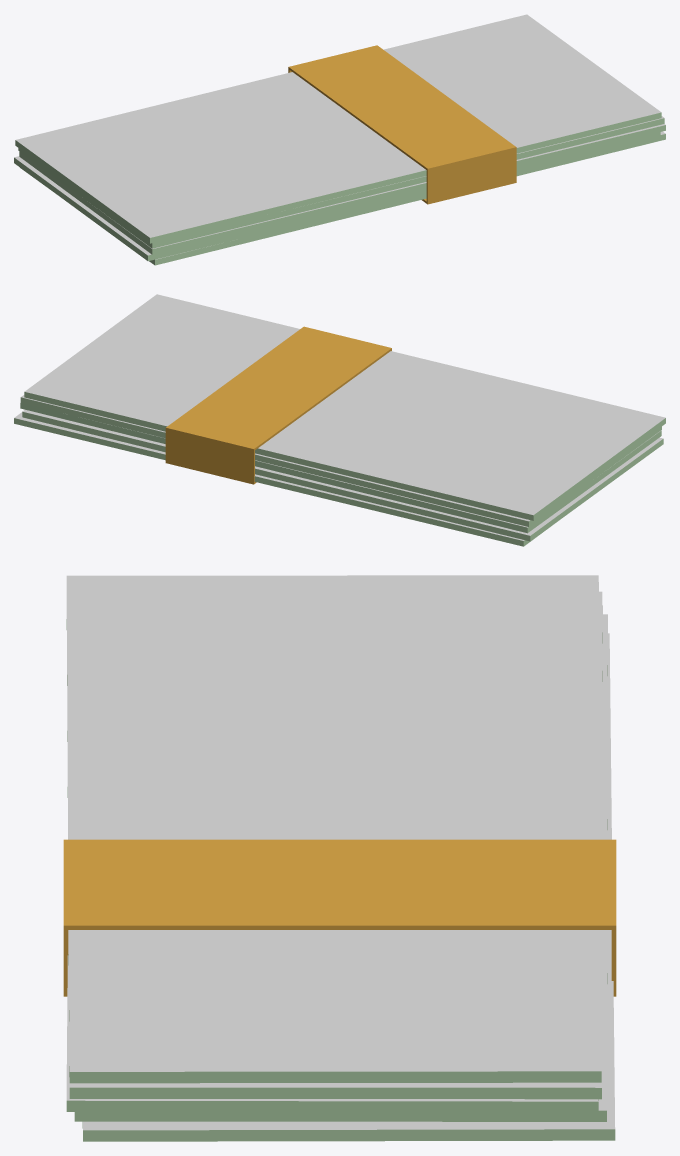
Rendered from RmBundle.fbx.
The picture shows the model from 3 angles, top to bottom: view 1: azimuth 30°, elevation 25°; view 2: azimuth 150°, elevation 25°; view 3: azimuth 270°, elevation 25°; orthographic projection. The views are drawn at different scales.
Parts seen in each view (by area): view 1: RmBundleBody; view 2: RmBundleBody; view 3: RmBundleBody.
Boxes of the visible parts, box(x1,y1,x2,y2) form: RmBundleBody: box(14, 14, 665, 265); RmBundleBody: box(14, 294, 665, 546); RmBundleBody: box(63, 575, 616, 1141).
Bounding box in the file's own units: 0.1524 × 0.01 × 0.0706.
